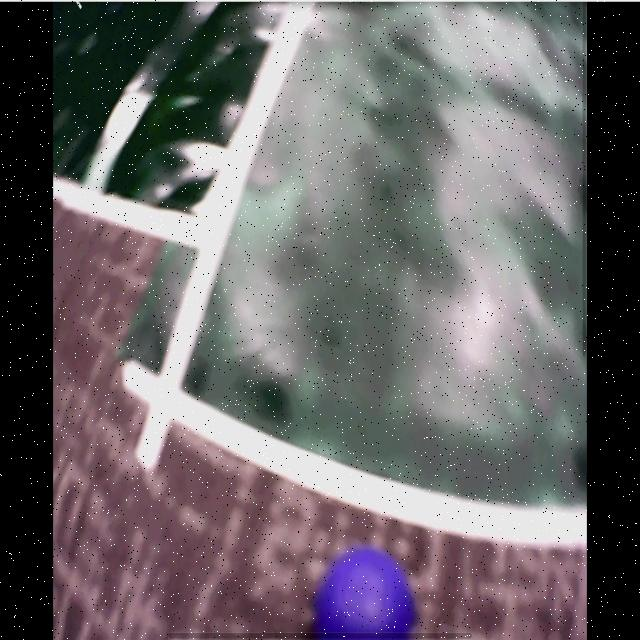ball: (317, 549, 414, 640)
